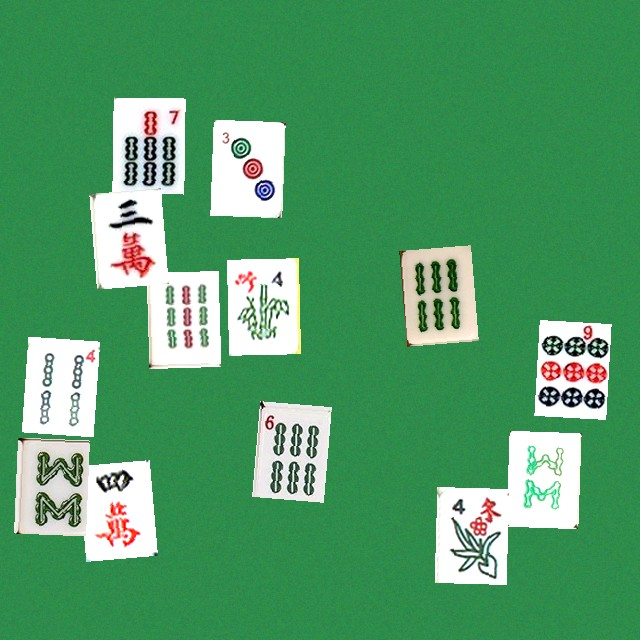tile: (77, 460, 149, 556), (399, 245, 471, 341), (226, 258, 298, 354), (506, 430, 578, 526), (146, 270, 218, 366), (534, 320, 606, 416), (112, 97, 184, 193), (210, 119, 282, 215), (434, 487, 506, 583), (21, 336, 93, 432), (252, 401, 324, 497), (14, 437, 86, 533), (89, 188, 161, 284)
